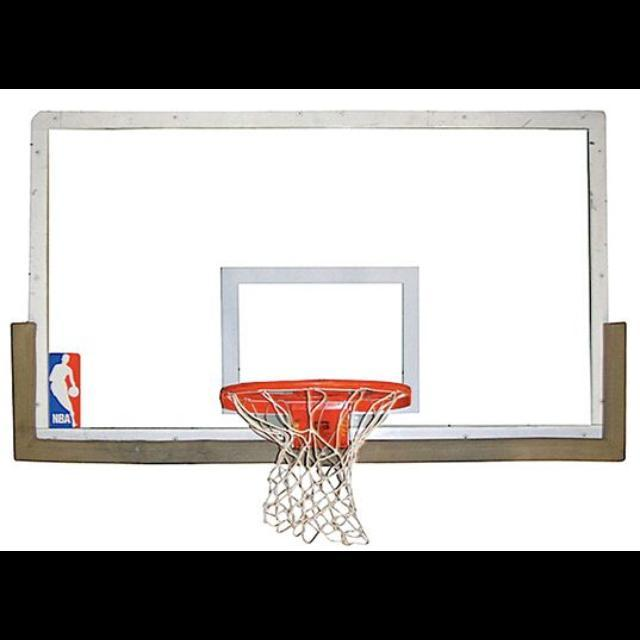rim: (221, 380, 411, 546)
